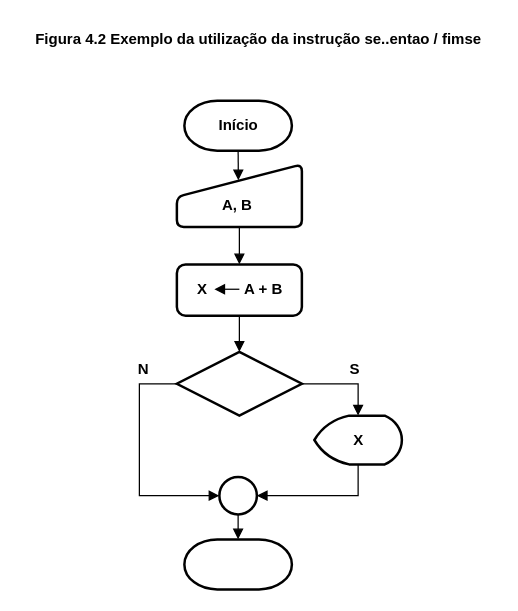
Image size: 518x611. Some labels were removed from this diagram. The centre of each missing label's shape, as x and y in pixels:
"Fim" belongs at point 237,564.
"X > 10" belongs at point 238,383.
